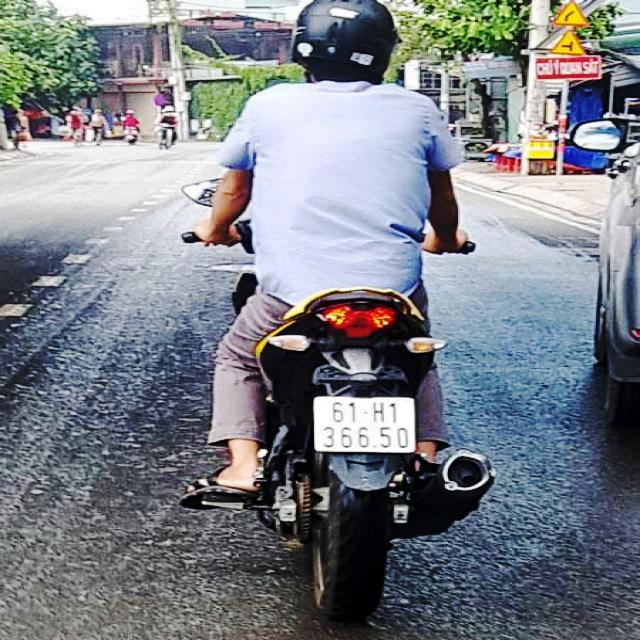license_plate: (320, 399, 417, 453)
